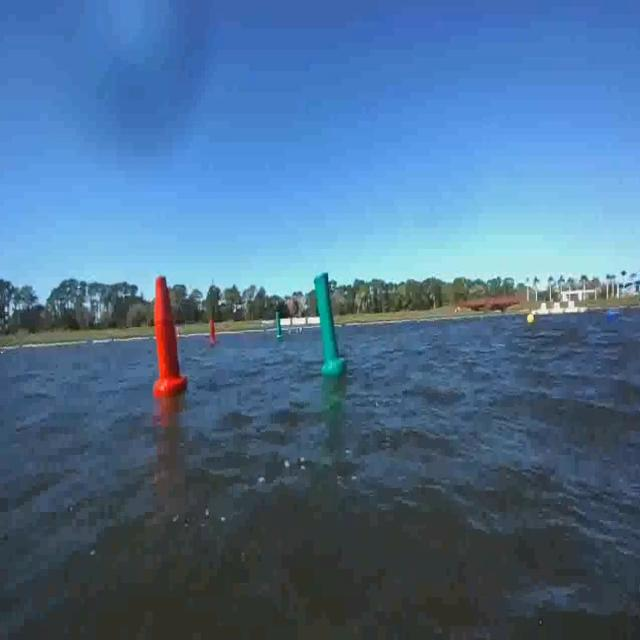blue-buoy: (606, 311, 617, 320)
green-column-buoy: (312, 273, 347, 378), (275, 314, 285, 343)
red-column-buoy: (152, 272, 187, 398), (209, 321, 218, 347)
yellow-buoy: (526, 312, 536, 326)
